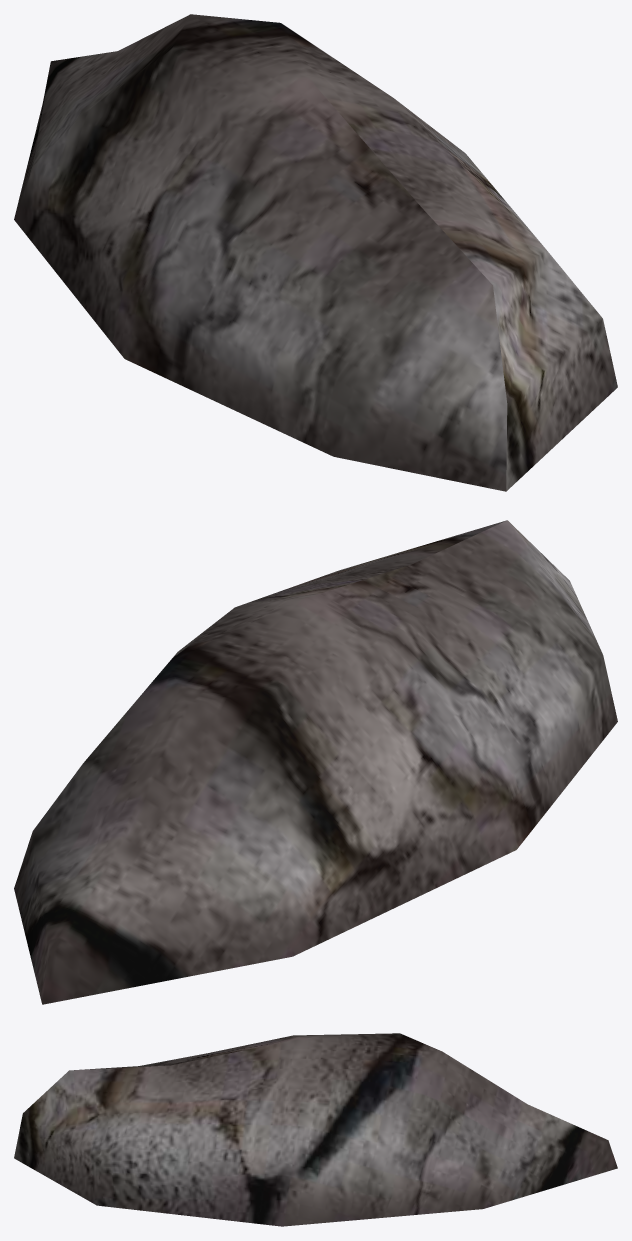
Rendered from rock.fbx.
3 views of the same model, one above another, from view 1: azimuth 30°, elevation 25°; view 2: azimuth 150°, elevation 25°; view 3: azimuth 270°, elevation 25° (orthographic). The views are drawn at different scales.
Visible parts, largest first — view 1: rock; view 2: rock; view 3: rock.
Part boxes in pixels (left/top/right/bottom): rock: left=14, top=14, right=617, bottom=491; rock: left=14, top=520, right=617, bottom=1004; rock: left=14, top=1033, right=617, bottom=1226.
Size of the model in its own units: 3.25 by 1.72 by 7.12.
